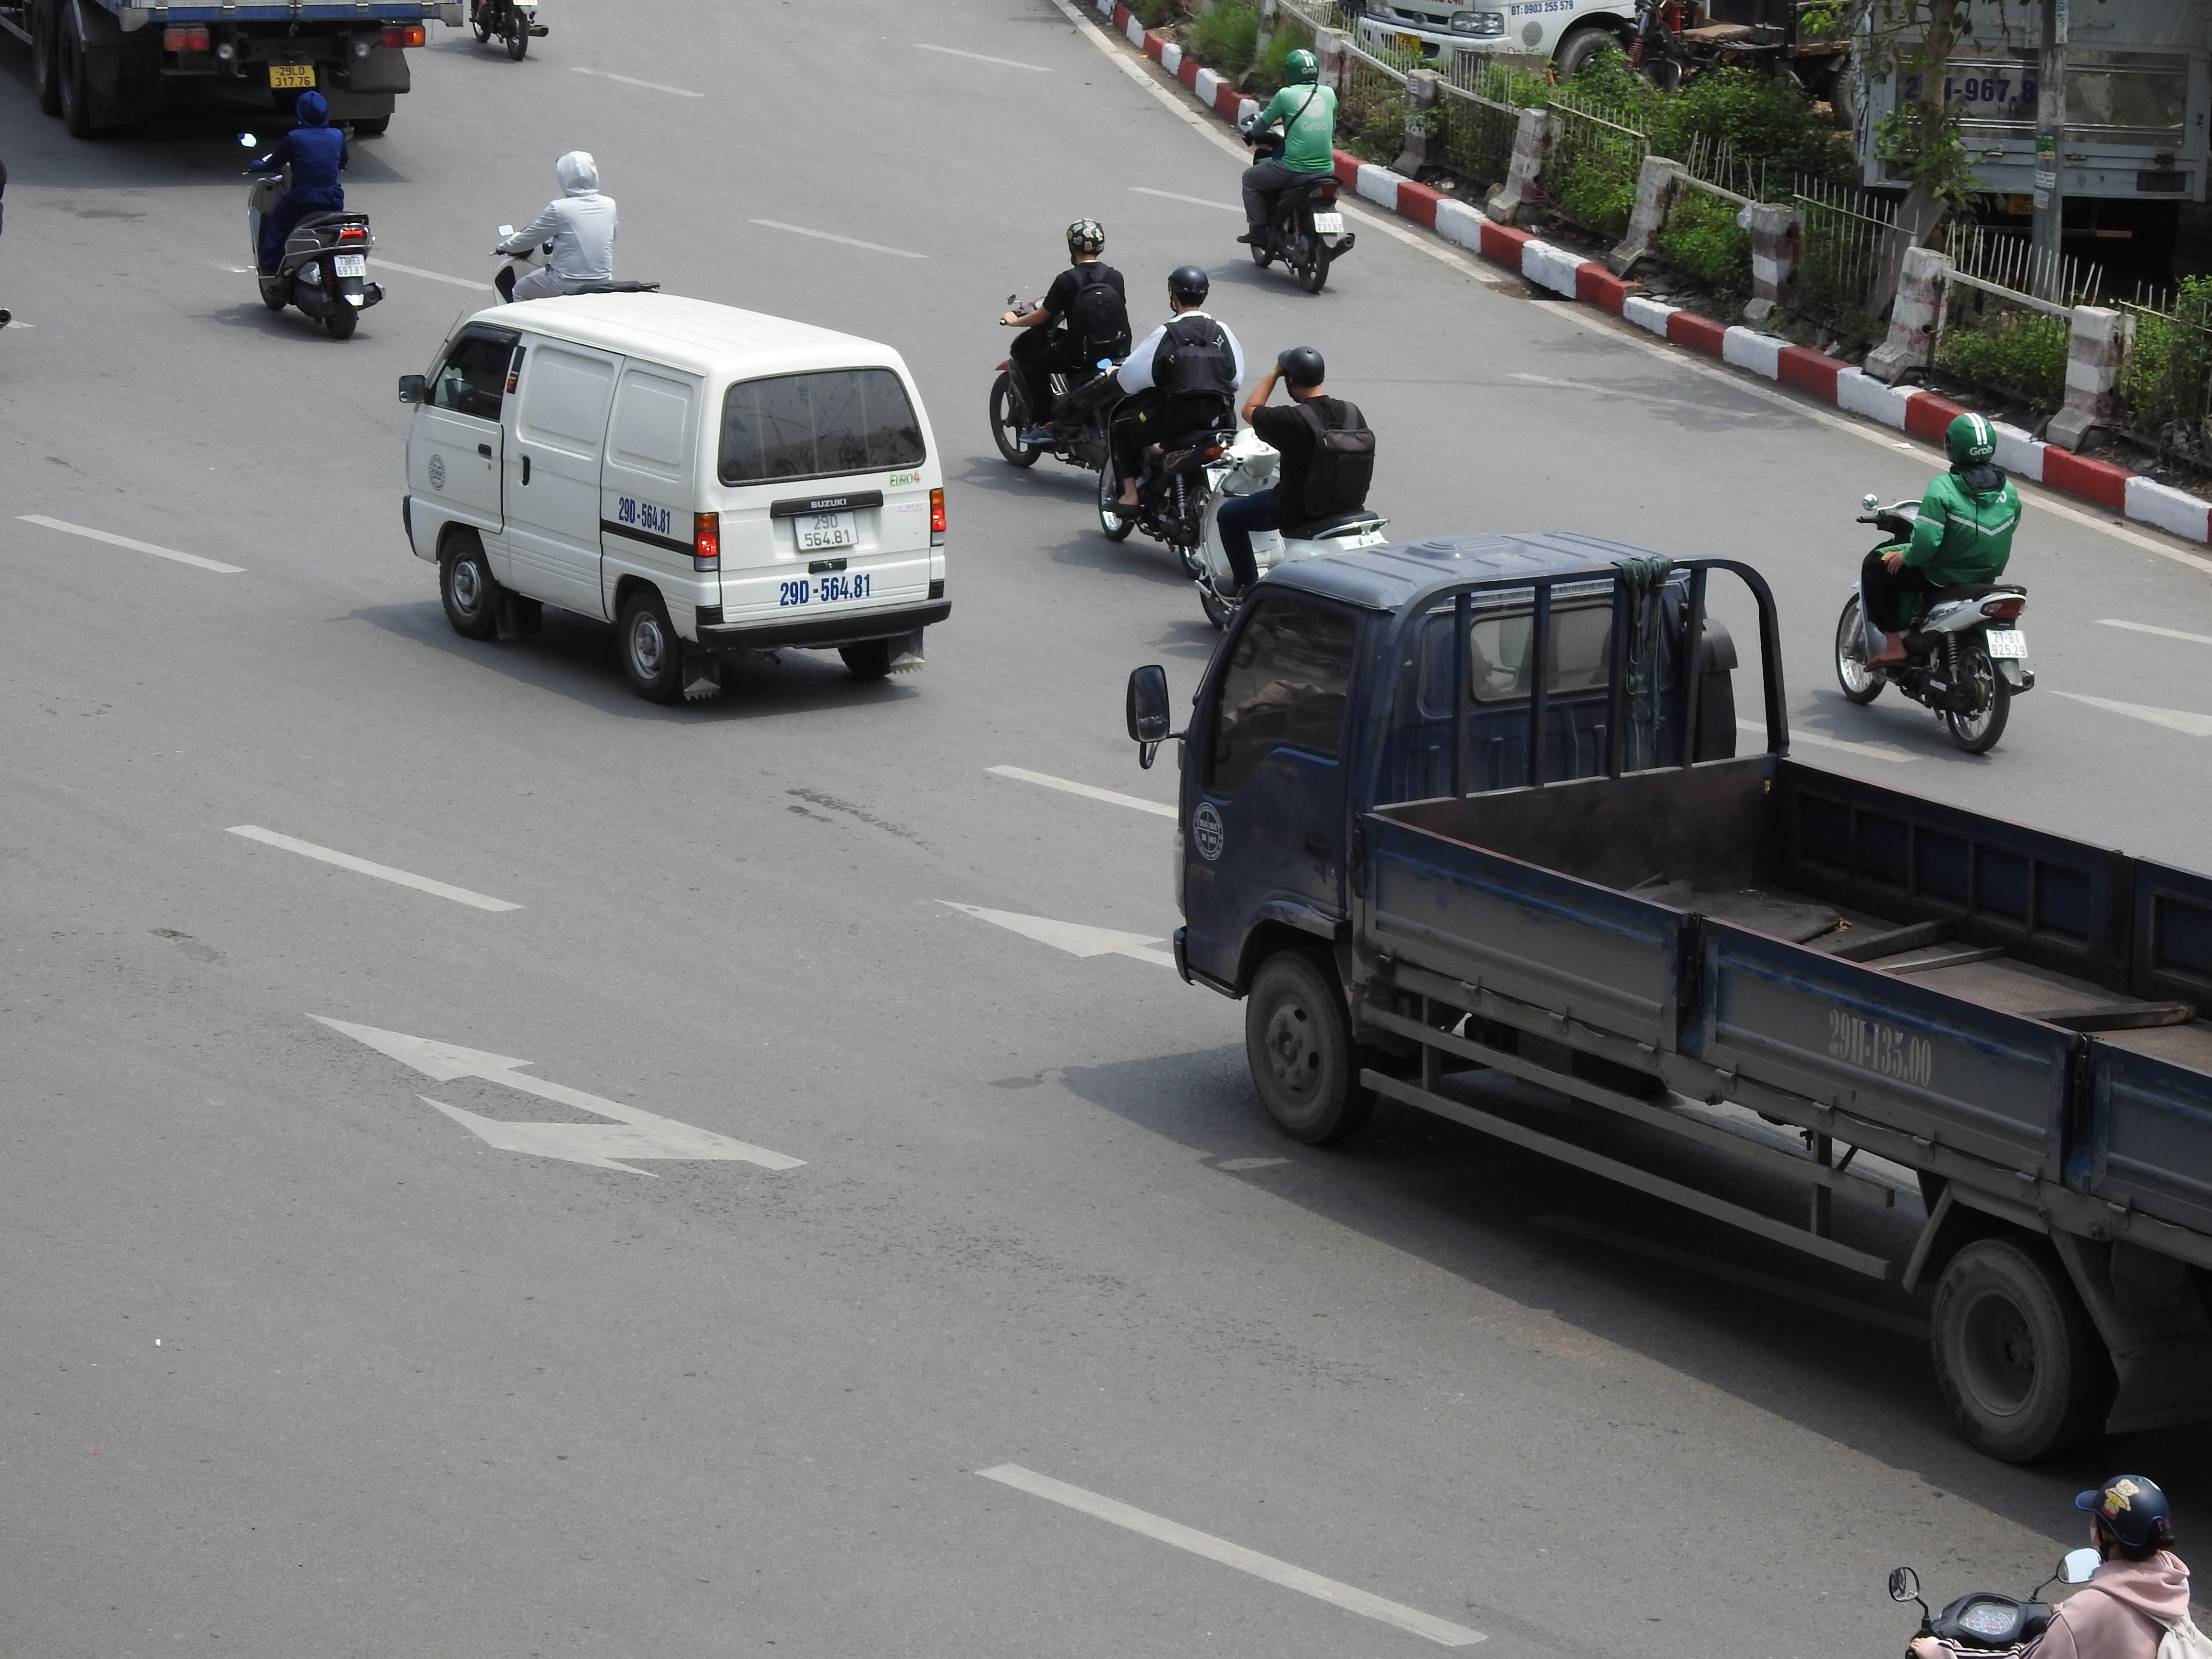BSV: (794, 509, 857, 551), (1986, 626, 2029, 659), (268, 63, 315, 87), (334, 254, 368, 279), (1313, 211, 1345, 234)
car: (395, 284, 951, 704)
motorbike: (1832, 411, 2034, 758), (1885, 1474, 2212, 1659), (1183, 345, 1388, 631), (1096, 265, 1247, 573), (988, 218, 1134, 477), (242, 87, 383, 342), (1235, 47, 1355, 296), (491, 150, 660, 305), (460, 0, 549, 63)
truck: (1130, 528, 2212, 1471)
